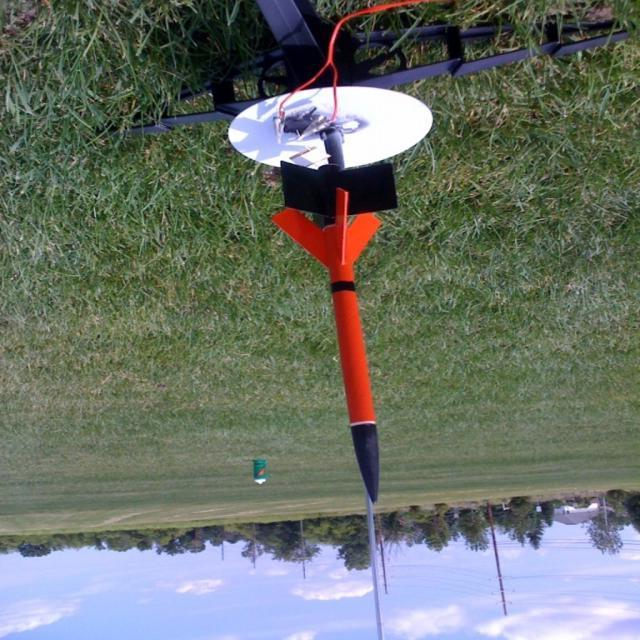Missile: (272, 190, 392, 503)
